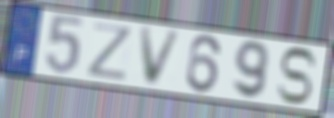5: (43, 13, 85, 78)
6: (184, 34, 222, 95)
9: (230, 40, 272, 101)
S: (274, 46, 320, 106)
V: (137, 26, 185, 88)
Z: (84, 21, 135, 83)
